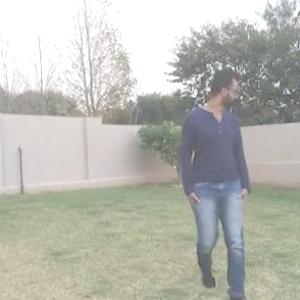follow: (166, 21, 268, 299)
